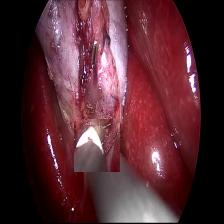Hook: (74, 119, 120, 172)
